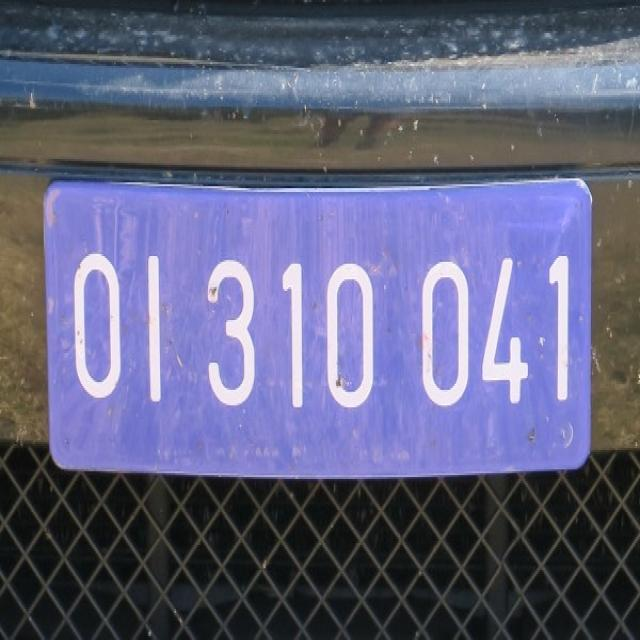LicensePlate: (29, 132, 608, 515)
